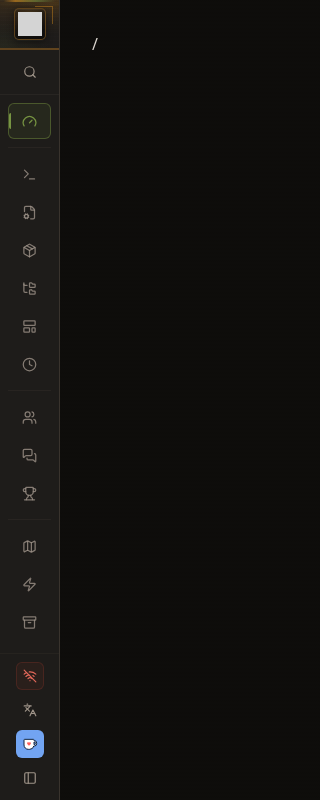
it: Layout: sidebar behaviour › names icon-rail rows by the page's full title, in the name and the tooltip
Focus the link named "Server Configuration". click: (30, 212)
box: top-left (22, 204), bottom-right (37, 220)
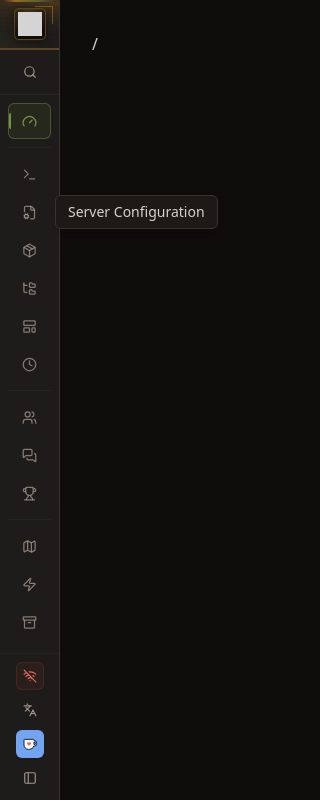
Expected: the button named "Search pages and sections" is shown, top-left (16, 58), bottom-right (44, 86)
Now the tooltip reads "Server Configuration", box top-left (68, 202), bottom-right (205, 221)
